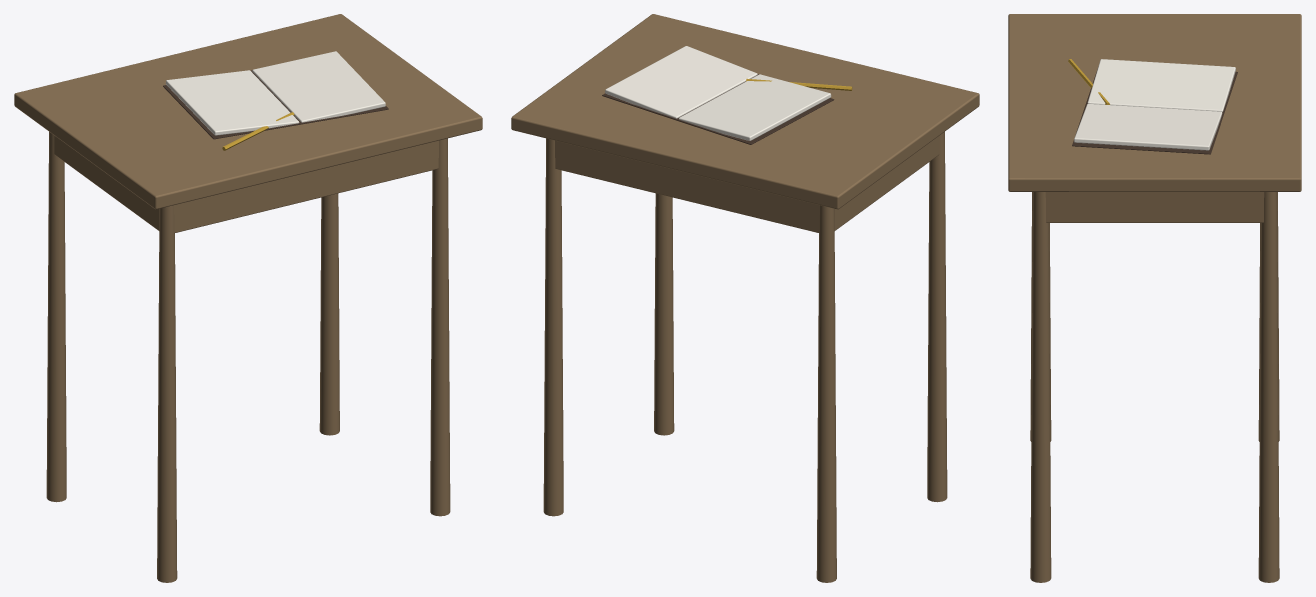
File: sidetable.glb
The picture shows the model from 3 angles, left to right: view 1: azimuth 30°, elevation 25°; view 2: azimuth 150°, elevation 25°; view 3: azimuth 270°, elevation 25°; orthographic projection. The views are drawn at different scales.
Visible parts, largest first — view 1: SideTable_Top, SideTable, SideTable_Apron_-1, SideTable_Leg_-1_-1, SideTable_Leg_1_-1, SideTable_Notebook, SideTable_Notebook_Page_-1, SideTable_ApronS_-1, SideTable_Notebook_Cover; view 2: SideTable_Top, SideTable, SideTable_Leg_-1_-1, SideTable_Notebook, SideTable_Notebook_Page_-1, SideTable_Leg_1_-1, SideTable_ApronS_-1, SideTable_Notebook_Cover; view 3: SideTable_Top, SideTable, SideTable_Leg_1_-1, SideTable_Notebook_Page_-1, SideTable_Notebook, SideTable_Notebook_Cover, SideTable_Leg_-1_-1.
Boxes of the visible parts, bbox=[...] form: SideTable_Top: bbox=[14, 14, 482, 209]; SideTable: bbox=[46, 132, 339, 502]; SideTable_Apron_-1: bbox=[174, 140, 438, 233]; SideTable_Leg_-1_-1: bbox=[157, 205, 177, 582]; SideTable_Leg_1_-1: bbox=[430, 138, 450, 516]; SideTable_Notebook: bbox=[252, 51, 385, 122]; SideTable_Notebook_Page_-1: bbox=[165, 70, 299, 135]; SideTable_ApronS_-1: bbox=[54, 135, 159, 230]; SideTable_Notebook_Cover: bbox=[163, 70, 388, 139]; SideTable_Top: bbox=[511, 14, 979, 209]; SideTable: bbox=[543, 138, 836, 582]; SideTable_Leg_-1_-1: bbox=[927, 132, 947, 502]; SideTable_Notebook: bbox=[605, 46, 757, 118]; SideTable_Notebook_Page_-1: bbox=[678, 74, 831, 140]; SideTable_Leg_1_-1: bbox=[654, 193, 674, 435]; SideTable_ApronS_-1: bbox=[834, 135, 939, 230]; SideTable_Notebook_Cover: bbox=[602, 74, 834, 144]; SideTable_Top: bbox=[1008, 14, 1301, 191]; SideTable: bbox=[1045, 192, 1279, 582]; SideTable_Leg_1_-1: bbox=[1030, 192, 1051, 582]; SideTable_Notebook_Page_-1: bbox=[1087, 59, 1235, 111]; SideTable_Notebook: bbox=[1074, 104, 1222, 150]; SideTable_Notebook_Cover: bbox=[1072, 69, 1237, 154]; SideTable_Leg_-1_-1: bbox=[1030, 192, 1051, 441].
Bounding box in the file's own units: 0.6 × 0.7122 × 0.45.
